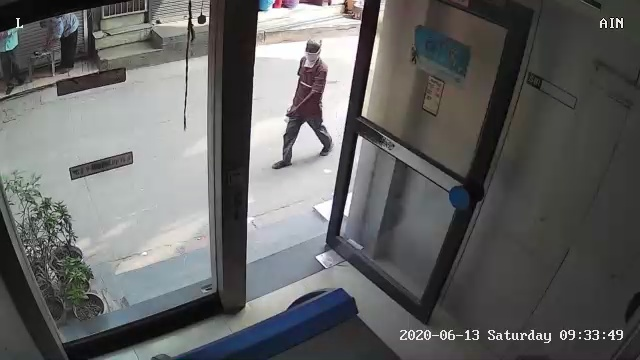open: (190, 5, 542, 328)
